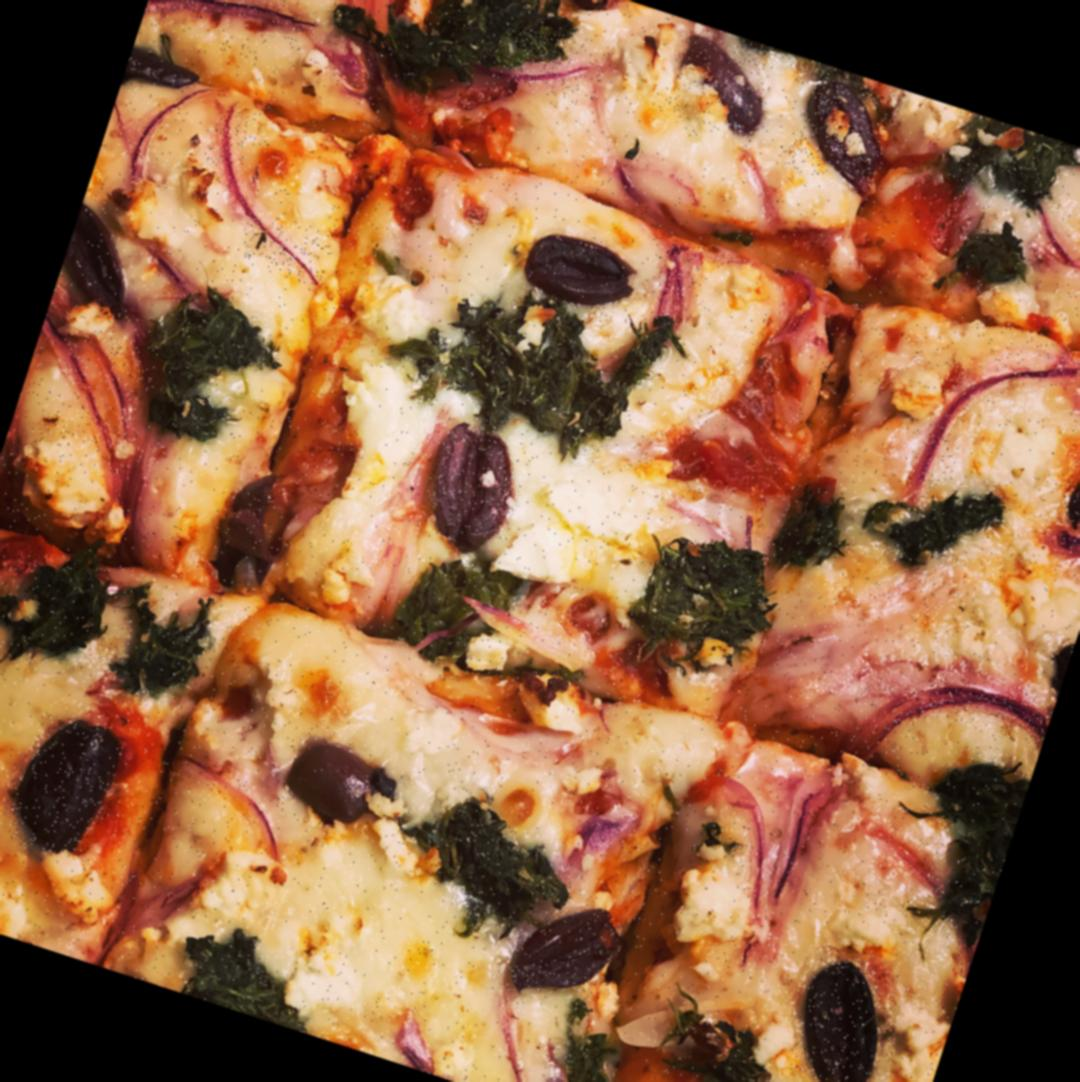Olives: (2, 711, 128, 864), (413, 417, 534, 555), (779, 950, 904, 1082), (502, 888, 628, 1018), (784, 70, 902, 196), (658, 29, 784, 143), (279, 733, 392, 835), (520, 223, 640, 313), (221, 462, 310, 564), (1055, 411, 1080, 538)
Onion: (30, 323, 160, 475), (744, 770, 840, 935), (901, 354, 987, 512), (139, 0, 313, 78), (487, 20, 611, 113), (920, 670, 1053, 751), (834, 672, 926, 780), (230, 205, 338, 289), (988, 321, 1080, 419), (195, 101, 262, 201), (173, 754, 271, 819), (647, 237, 708, 330), (121, 96, 176, 192)
Pizza: (0, 0, 1080, 1082)
